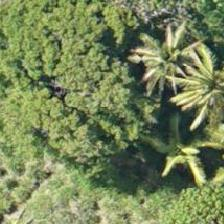coconut_tree: (125, 7, 215, 97), (134, 101, 223, 191), (176, 36, 223, 126)
